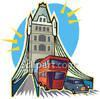bus: (35, 54, 67, 92)
car: (63, 75, 91, 94)
